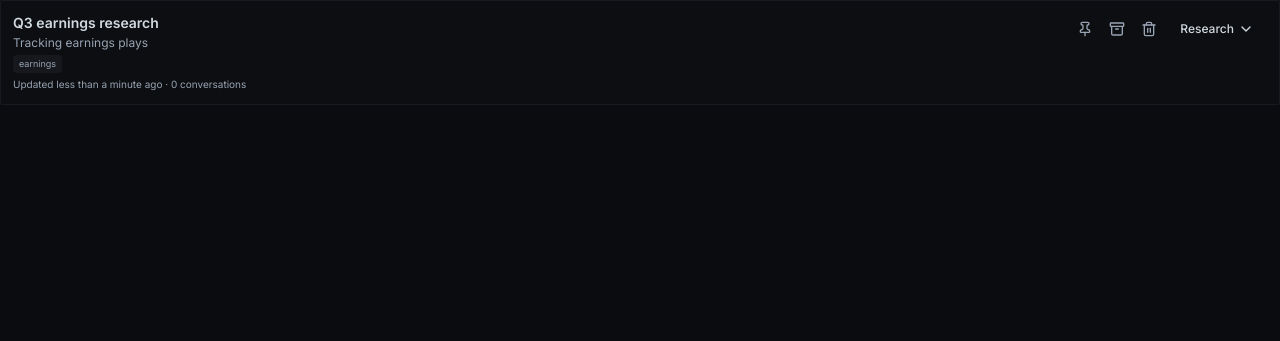
Test: WorkspaceHeader — rendering › clicking Research opens the panel, showing honest empty states
This screenshot has width=1280, height=341.
Click the button with test id "workspace-header-research-toggle" at coordinates (1217, 29), box [1167,13,1267,45]
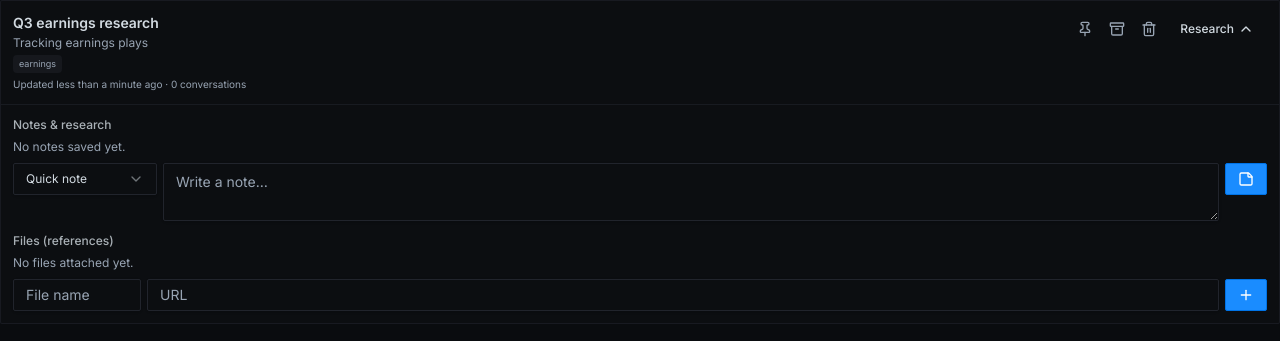
expect the element with test id "workspace-header-research-panel" is shown: met
expect the text "No notes saved yet." is shown: met, box [13,138,125,154]
expect the text "No files attached yet." is shown: met, box [13,254,134,270]
